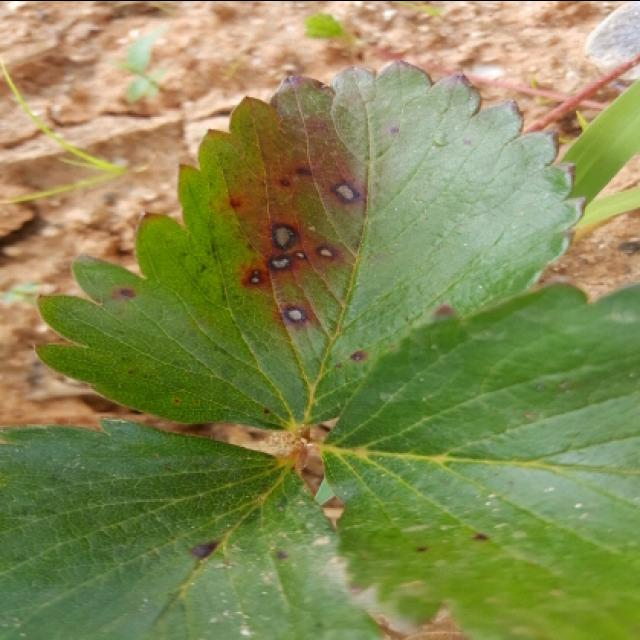Leaf Spot: (35, 58, 589, 435), (320, 281, 638, 640), (0, 415, 393, 640)
